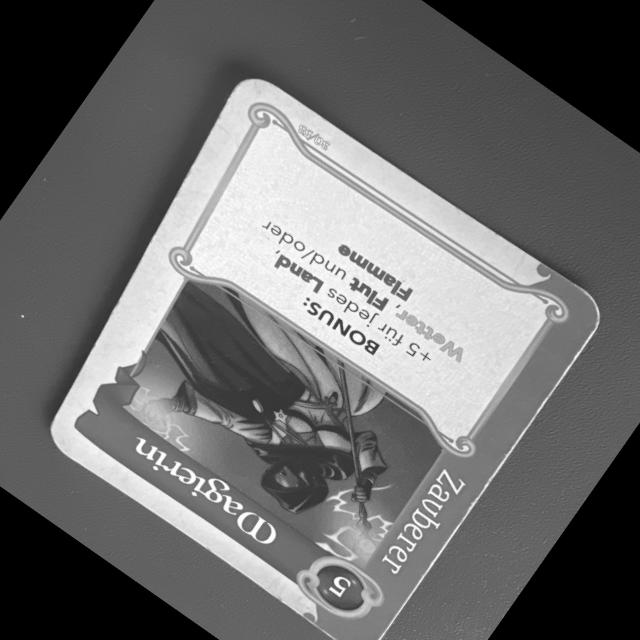Elemental Enchantress: (37, 62, 614, 640)
